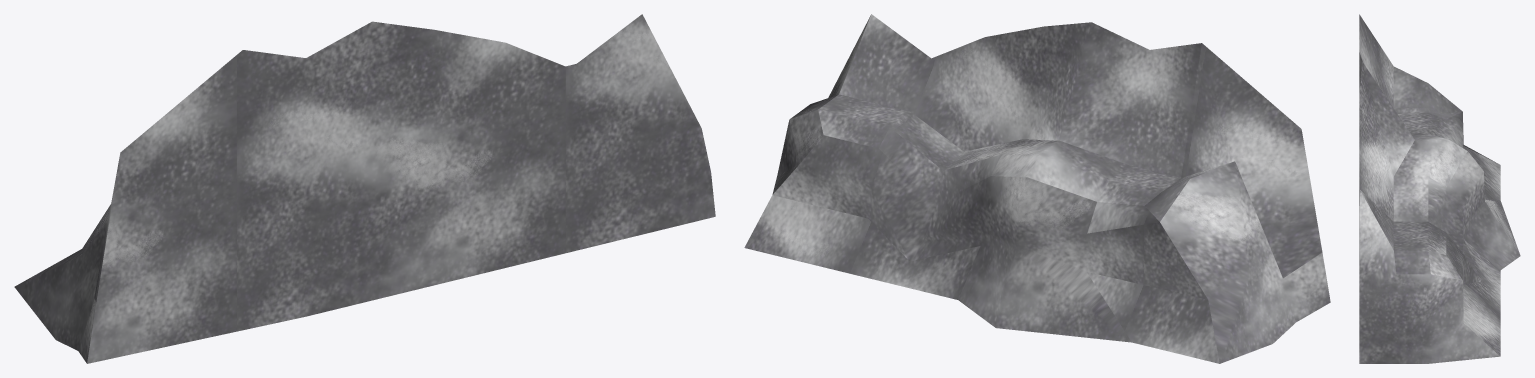
File: MountainT4.FBX
3 views of the same model, side by side, from view 1: azimuth 30°, elevation 25°; view 2: azimuth 150°, elevation 25°; view 3: azimuth 270°, elevation 25° (orthographic). The views are drawn at different scales.
Parts seen in each view (by area): view 1: MountainT4; view 2: MountainT4; view 3: MountainT4.
Boxes of the visible parts, x1,y1,x2,y2 form: MountainT4: (14, 14, 715, 363); MountainT4: (744, 14, 1330, 363); MountainT4: (1359, 14, 1520, 363).
Bounding box in the file's own units: 191 × 85.5 × 62.34.
Materials: 1 (1 with a texture image).
